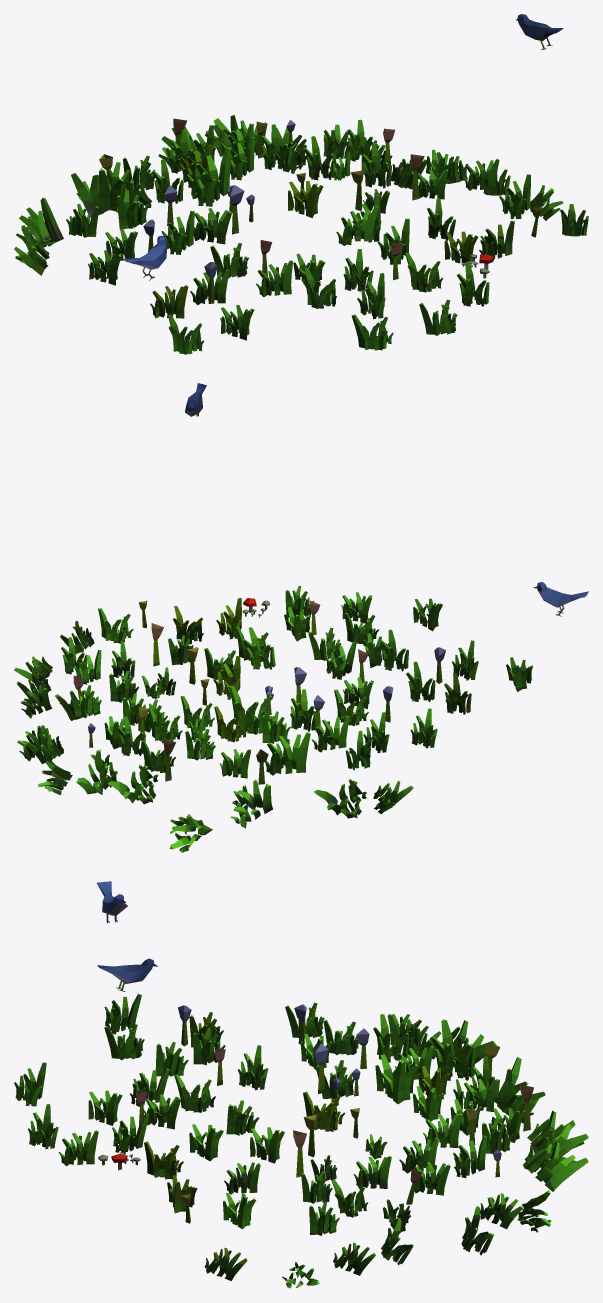
File: props.obj
3 views of the same model, one above another, from view 1: azimuth 30°, elevation 25°; view 2: azimuth 150°, elevation 25°; view 3: azimuth 270°, elevation 25° (orthographic). The views are drawn at different scales.
Parts seen in each view (by area): view 1: props.002_Cylinder.1435; view 2: props.002_Cylinder.1435; view 3: props.002_Cylinder.1435.
Boxes of the visible parts, <box> form: props.002_Cylinder.1435: <box>14,14,588,354</box>; props.002_Cylinder.1435: <box>14,383,588,852</box>; props.002_Cylinder.1435: <box>14,881,588,1288</box>.
Size of the model in its own units: 6.25 by 3.46 by 5.75.
Materials: 1 (1 with a texture image).
